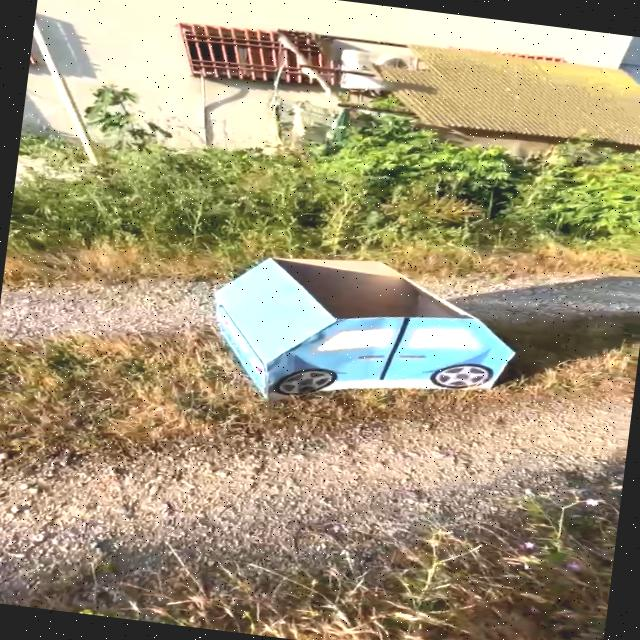blue_car: (134, 220, 590, 450)
